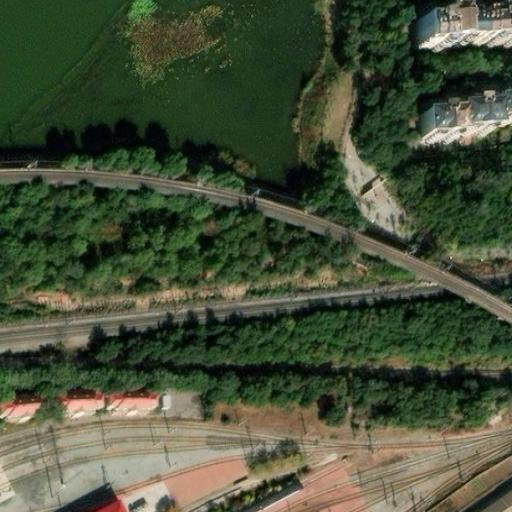building: (413, 83, 512, 126), (416, 10, 512, 53), (54, 383, 105, 411), (0, 388, 43, 418), (102, 386, 158, 409), (475, 485, 512, 512), (77, 496, 124, 511), (159, 386, 174, 409)
